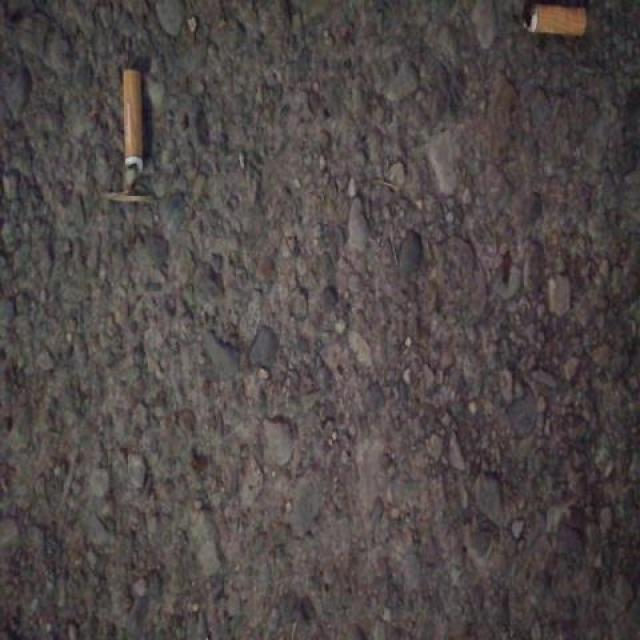non-organic waste: (120, 67, 148, 192), (518, 1, 594, 40)
